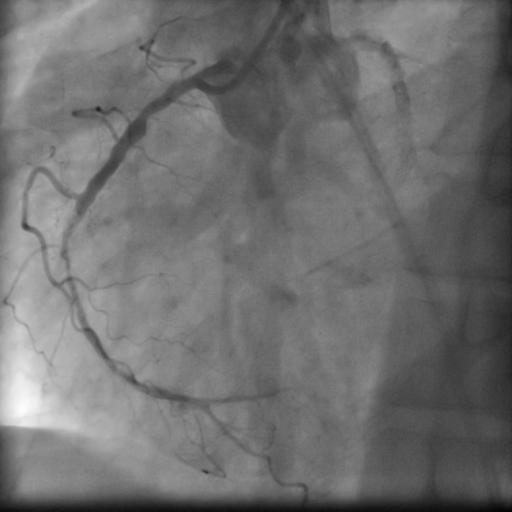Stenosis: (134, 92, 163, 122)
